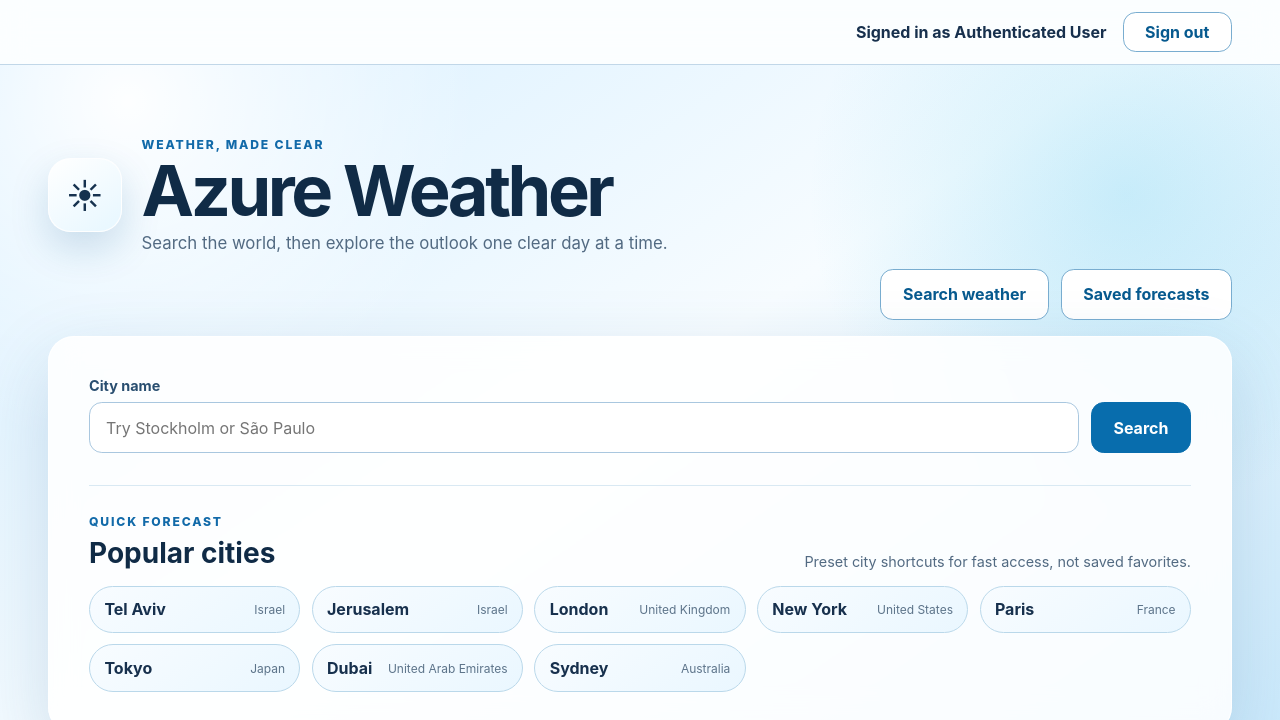
it: App › announces a weather loading state
Expected: the text "Signed in as Authenticated User" is shown, [856,22,1106,42]
In the search field labelled "City name": (584, 428) [89,402,1079,453], type "London"
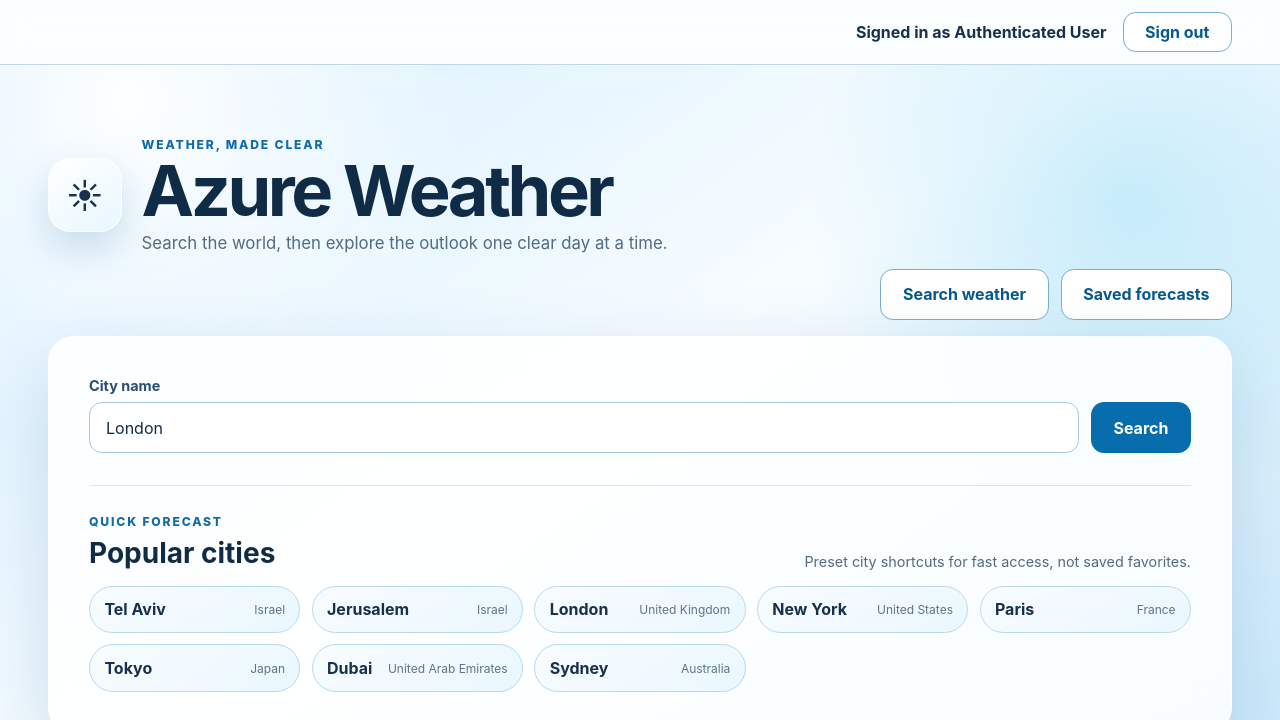
Click the button "Search": (1141, 428) [1091,402,1191,453]
(page scrolled)
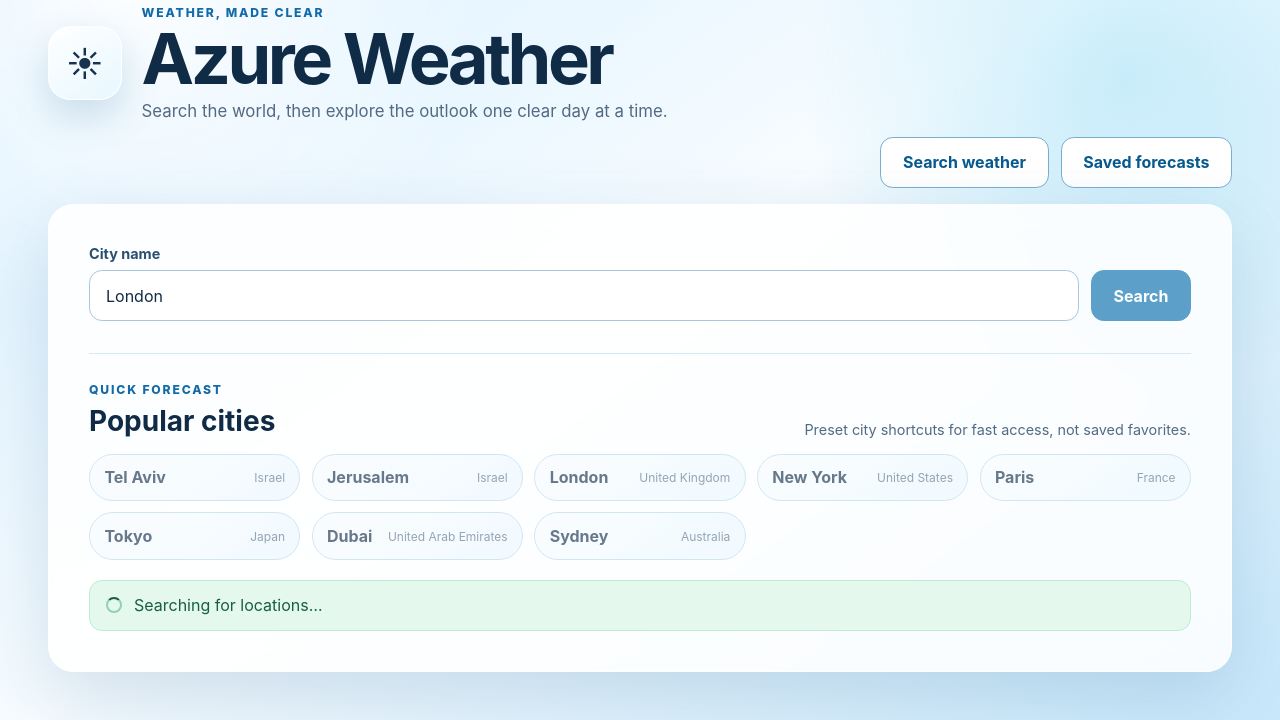
Now the message shows "Searching for locations", box [134,595,322,615]
